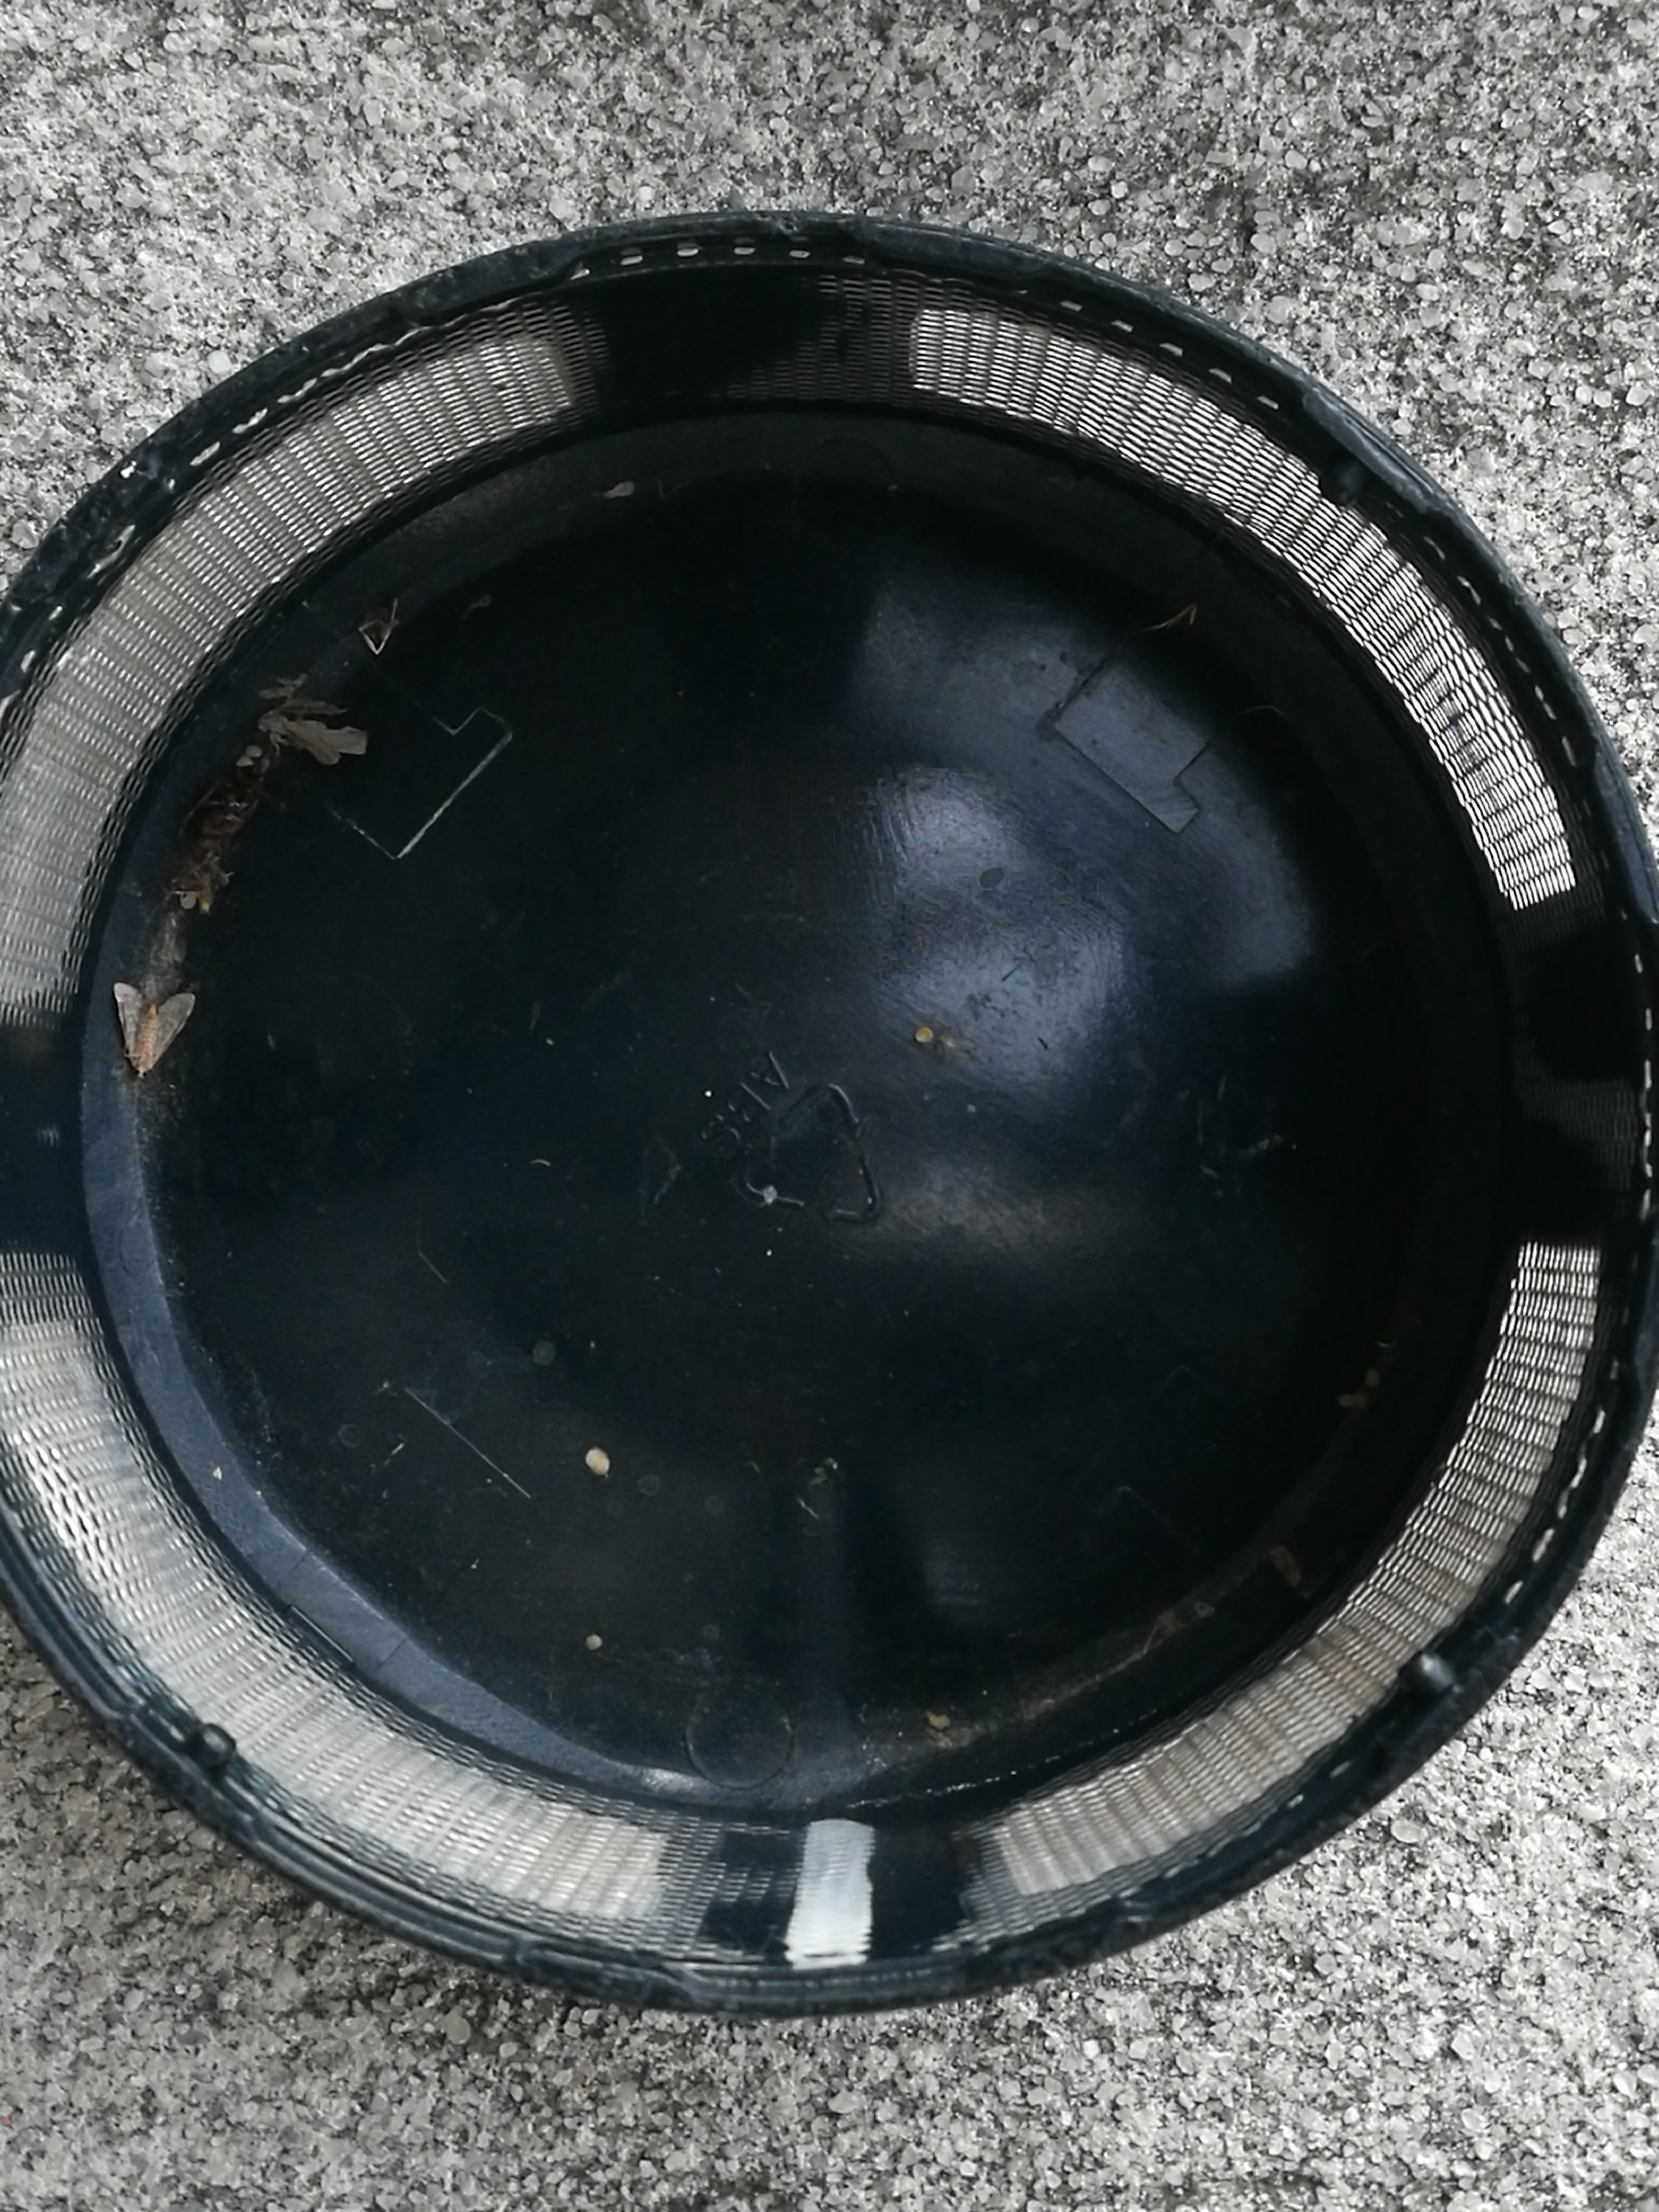beetle: (178, 770, 261, 855)
mosquito: (256, 700, 366, 765)
moth: (113, 982, 197, 1078), (162, 845, 218, 914)
